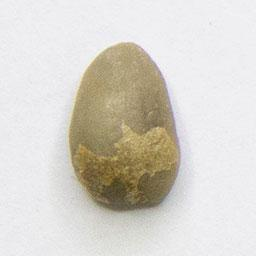longberry: (66, 37, 186, 213)
